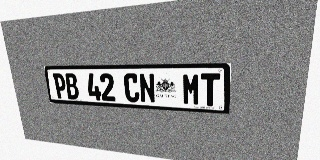2: (99, 73, 116, 101)
4: (86, 73, 102, 101)
B: (64, 73, 80, 99)
C: (123, 73, 140, 102)
M: (182, 73, 200, 106)
N: (139, 73, 156, 103)
P: (52, 73, 68, 99)
T: (201, 73, 220, 107)
